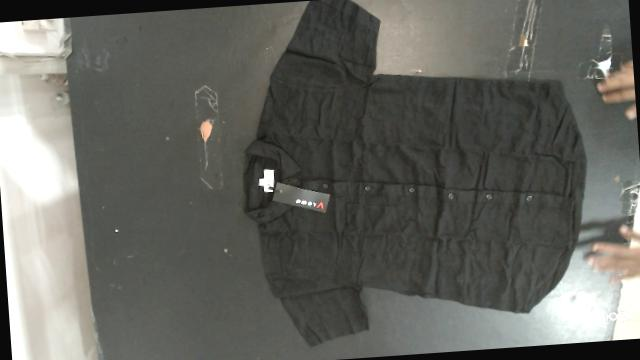new-garment: (243, 0, 585, 345)
